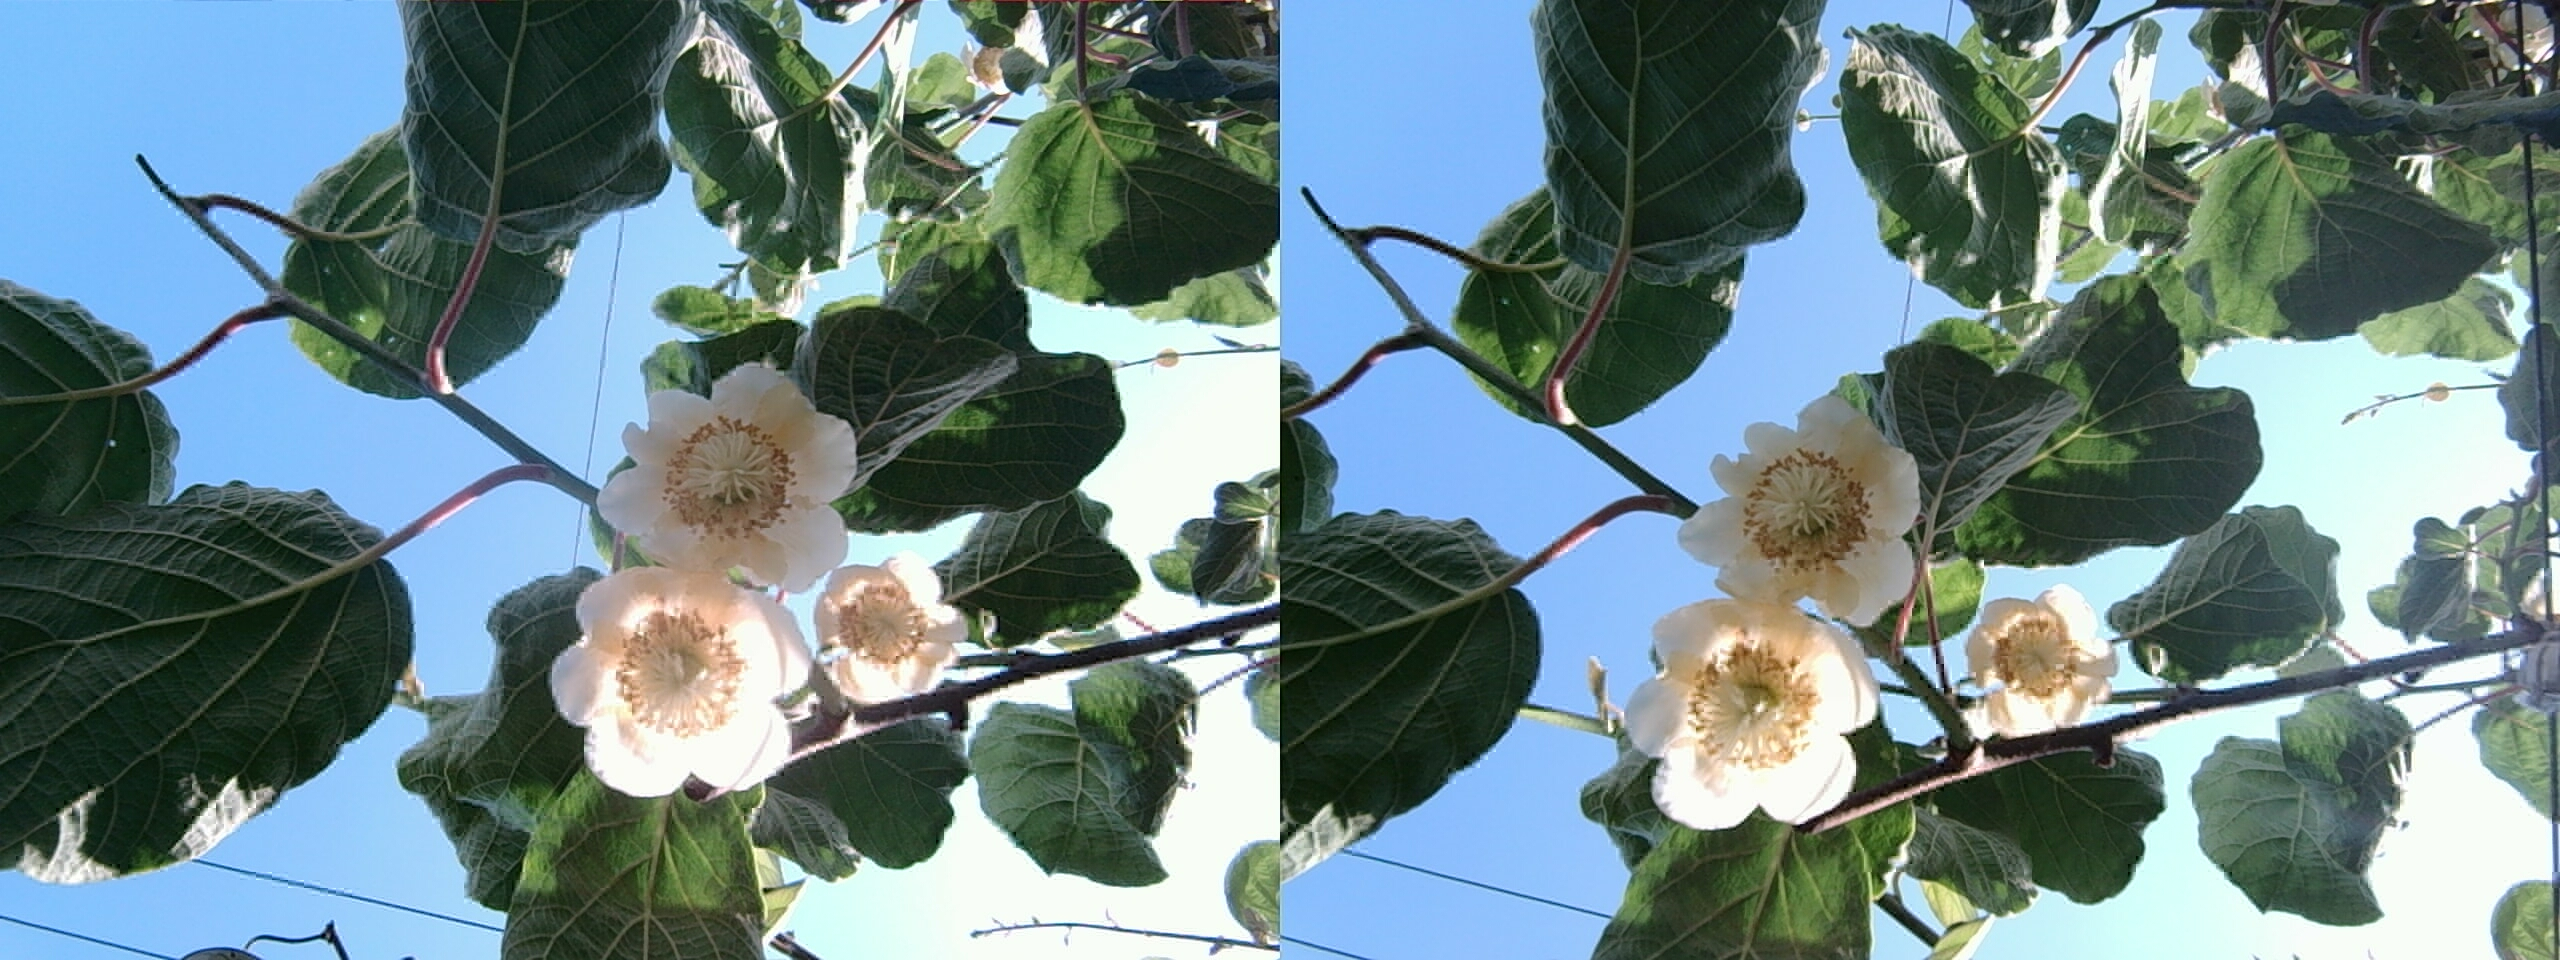flower: (540, 560, 815, 793), (1621, 589, 1874, 821), (594, 366, 852, 586), (1685, 389, 1918, 617), (1958, 578, 2122, 735), (802, 549, 963, 705)
